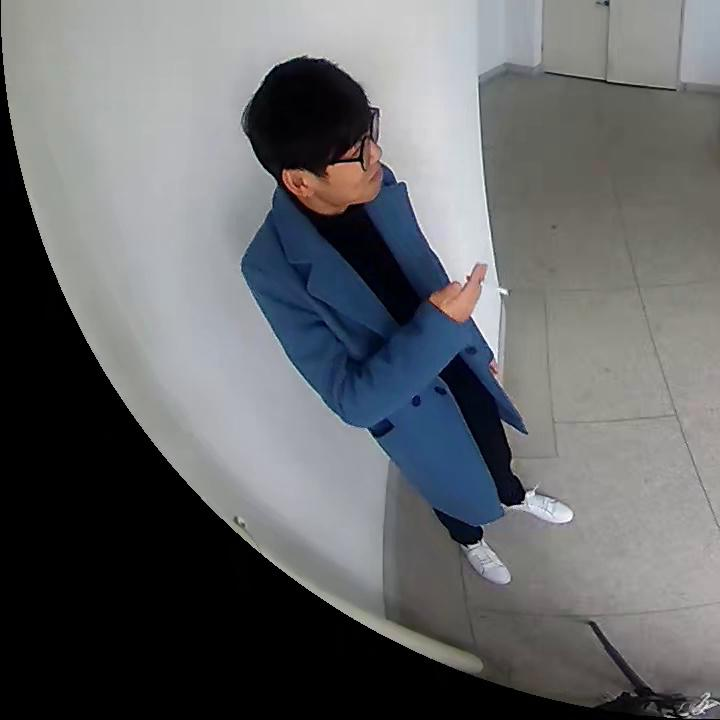handsmoke: (448, 260, 511, 312)
mouthwithoutsmoke: (244, 57, 383, 203)
